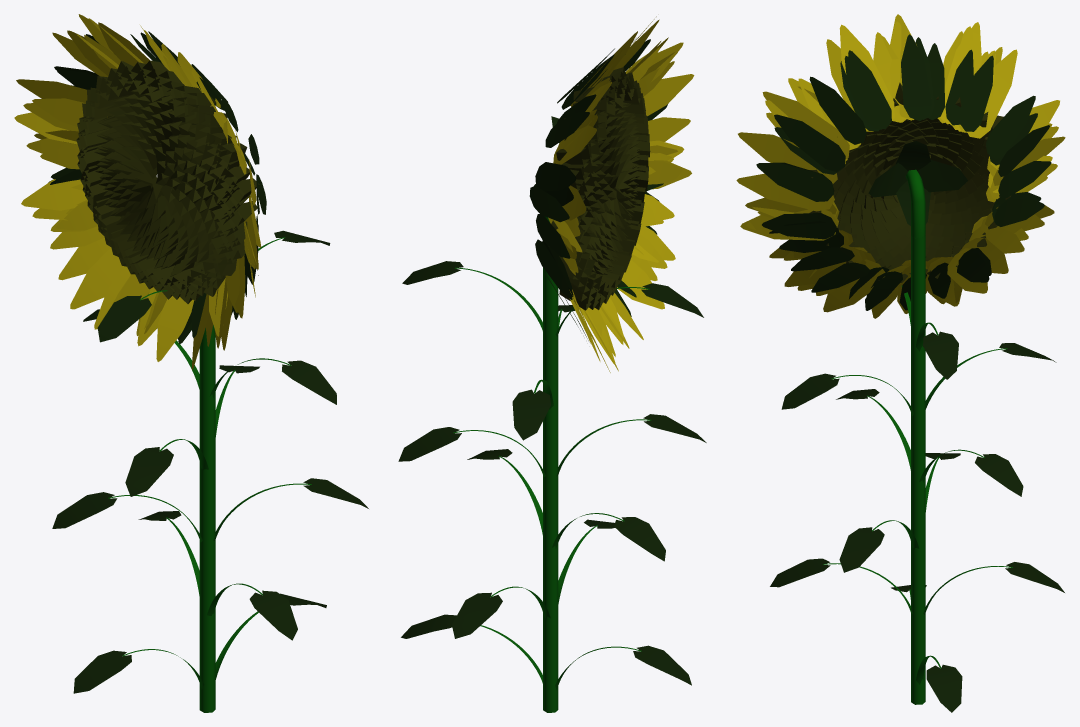
Rendered from Sunflower.FBX.
3 views of the same model, side by side, from view 1: azimuth 30°, elevation 25°; view 2: azimuth 150°, elevation 25°; view 3: azimuth 270°, elevation 25° (orthographic). The views are drawn at different scales.
Visible parts, largest first — view 1: Sunflow01; view 2: Sunflow01; view 3: Sunflow01.
Part boxes in pixels (x1,y1,x2,y2): Sunflow01: (14,14,368,712); Sunflow01: (398,16,706,712); Sunflow01: (736,14,1065,712).
Bounding box in the file's own units: 657 × 1610 × 735.
